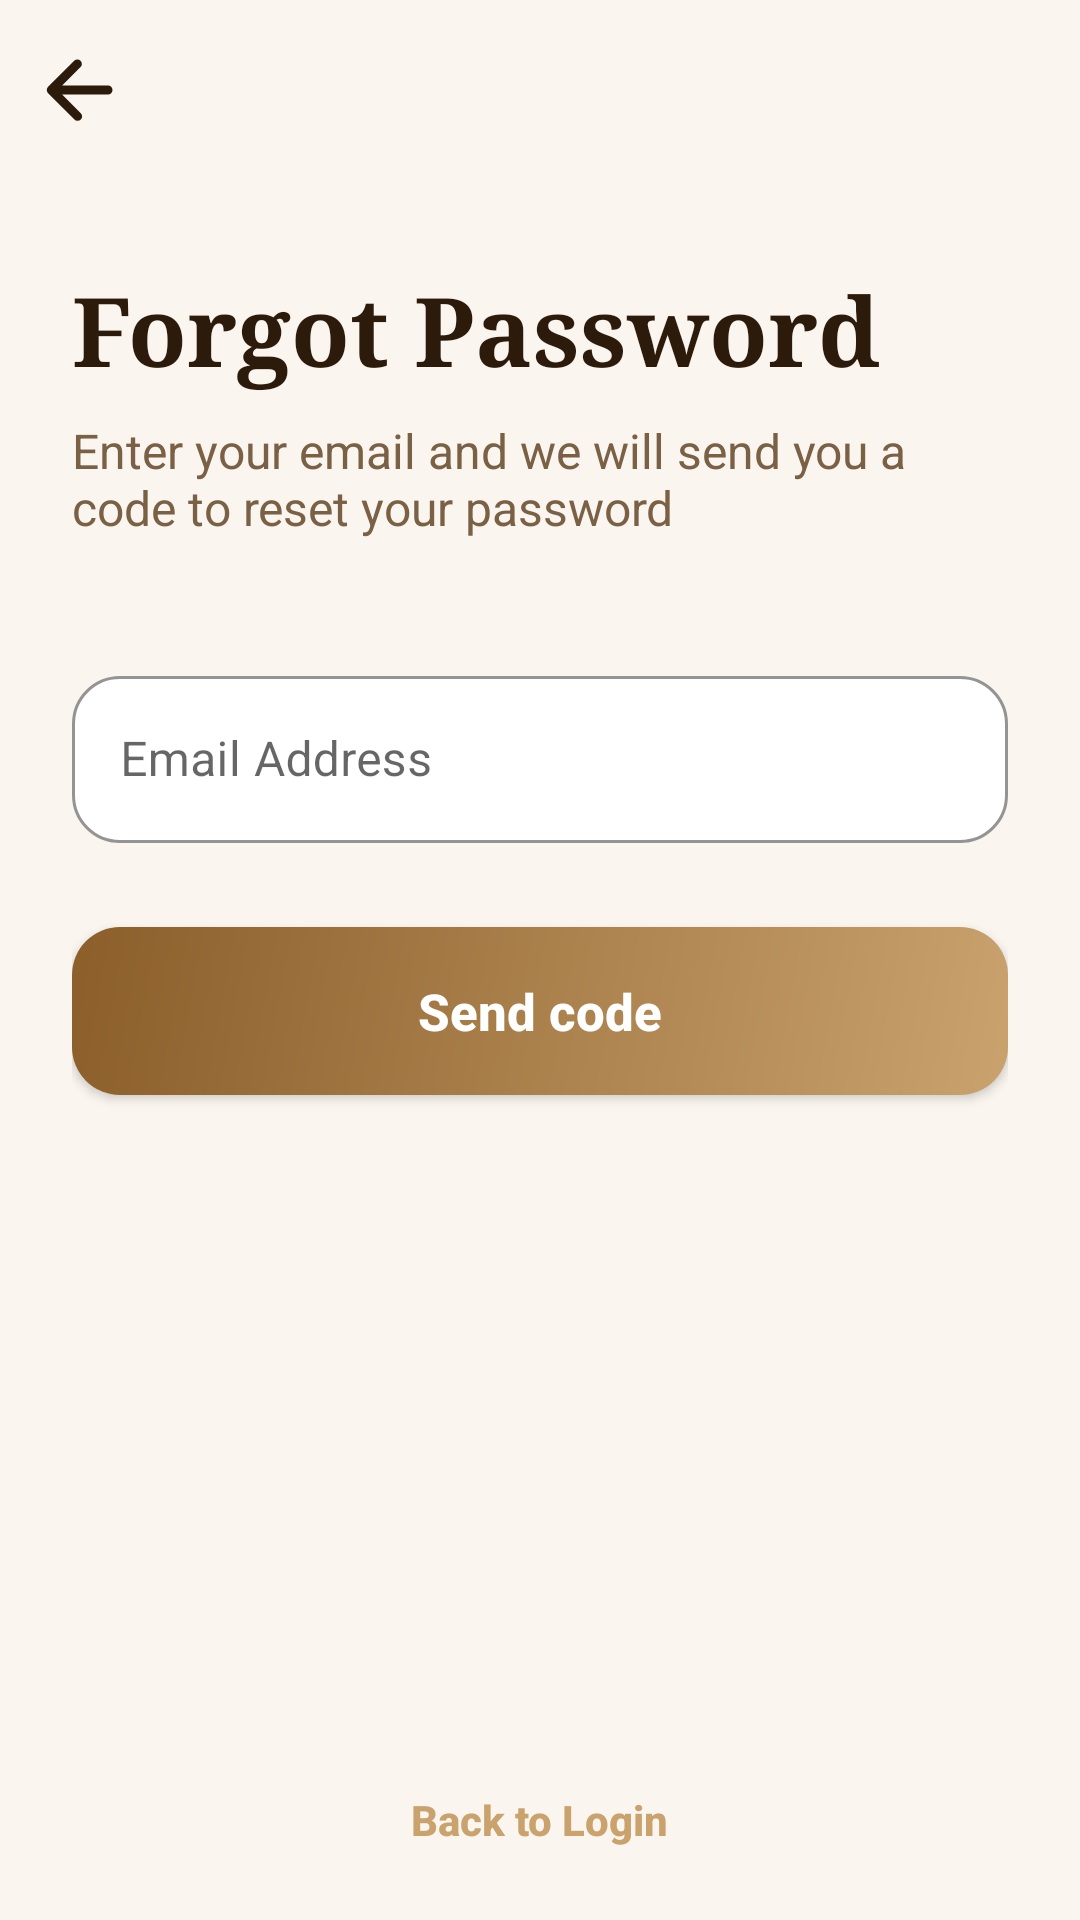

Point at icon controls on the screen. Image size 1080 × 1920, points as [x,y].
Back to Login: [79,90]
